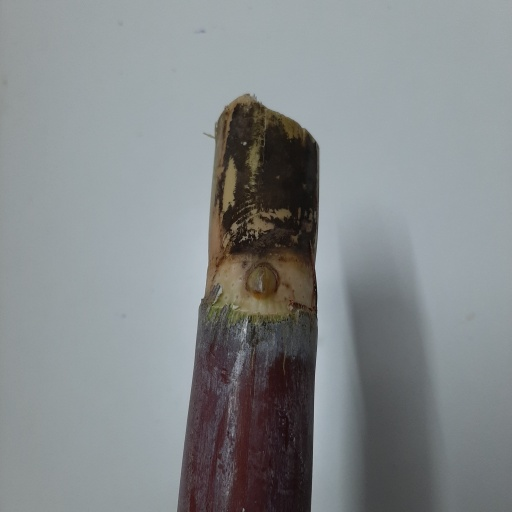Bud: (247, 264, 278, 298)
